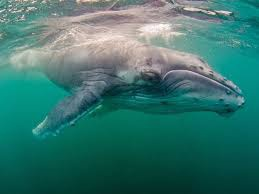humpback: (36, 63, 244, 115)
